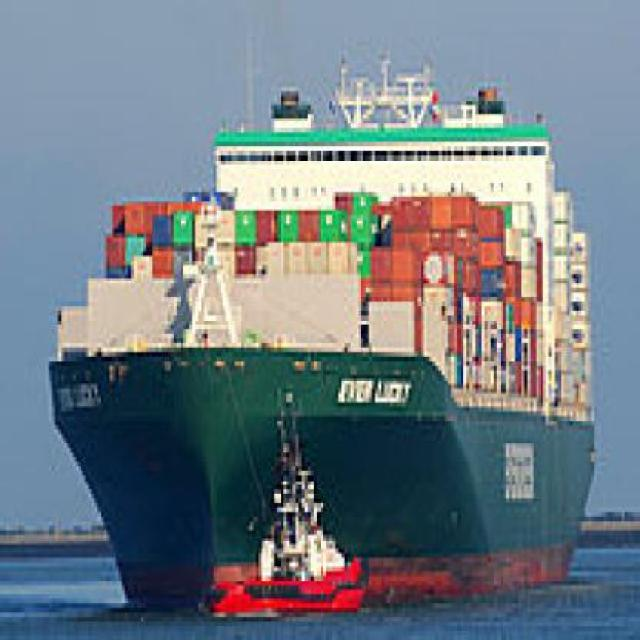container: (37, 42, 608, 619)
